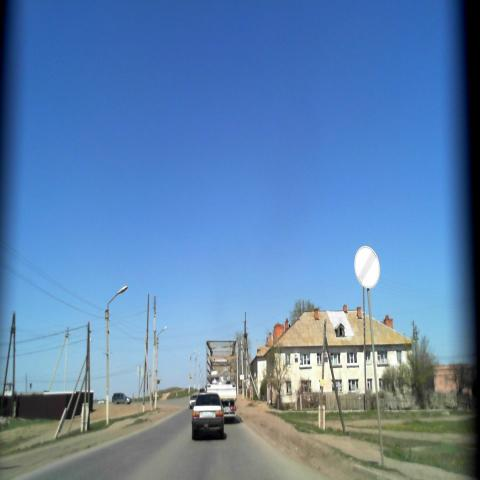3_31: (354, 244, 380, 292)
